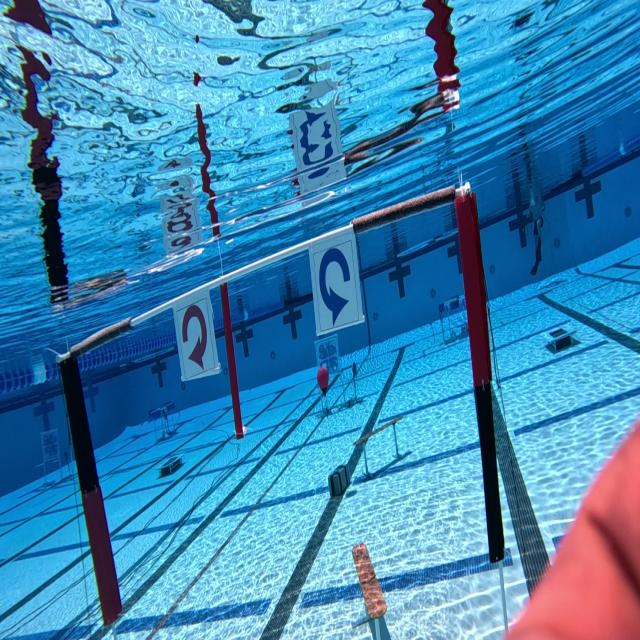blue_side: (310, 233, 364, 333)
red_side: (175, 290, 219, 380)
